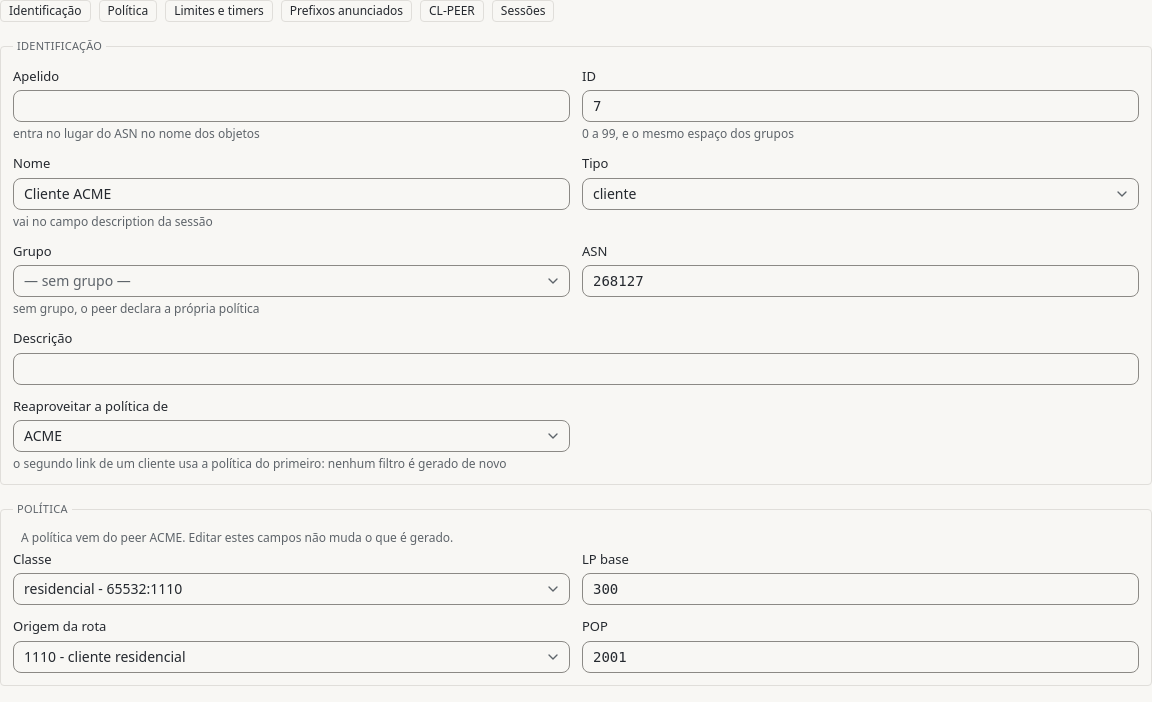
Scenario: o formulario do peer › trocar o tipo limpa a origem que nao vale no par novo
Click the dropdown named "Tipo".
click(615, 193)  # box top-left (582, 178), bottom-right (1139, 210)
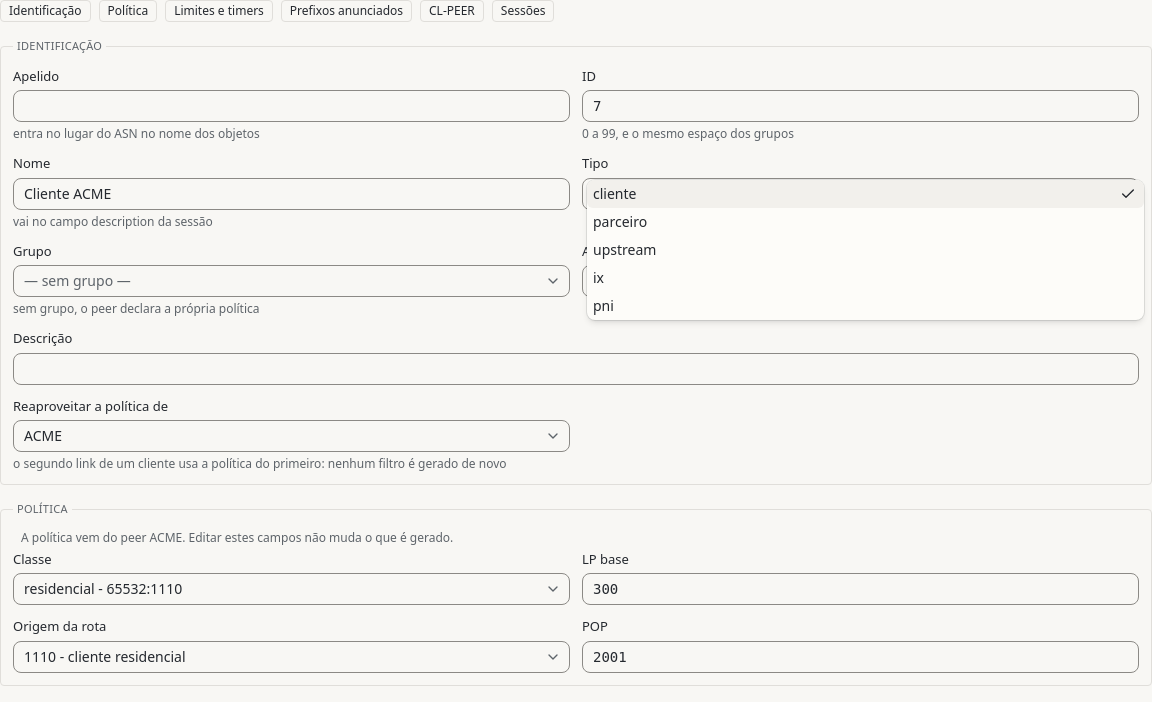
Click the option "upstream".
click(625, 249)  # box top-left (593, 240), bottom-right (656, 258)
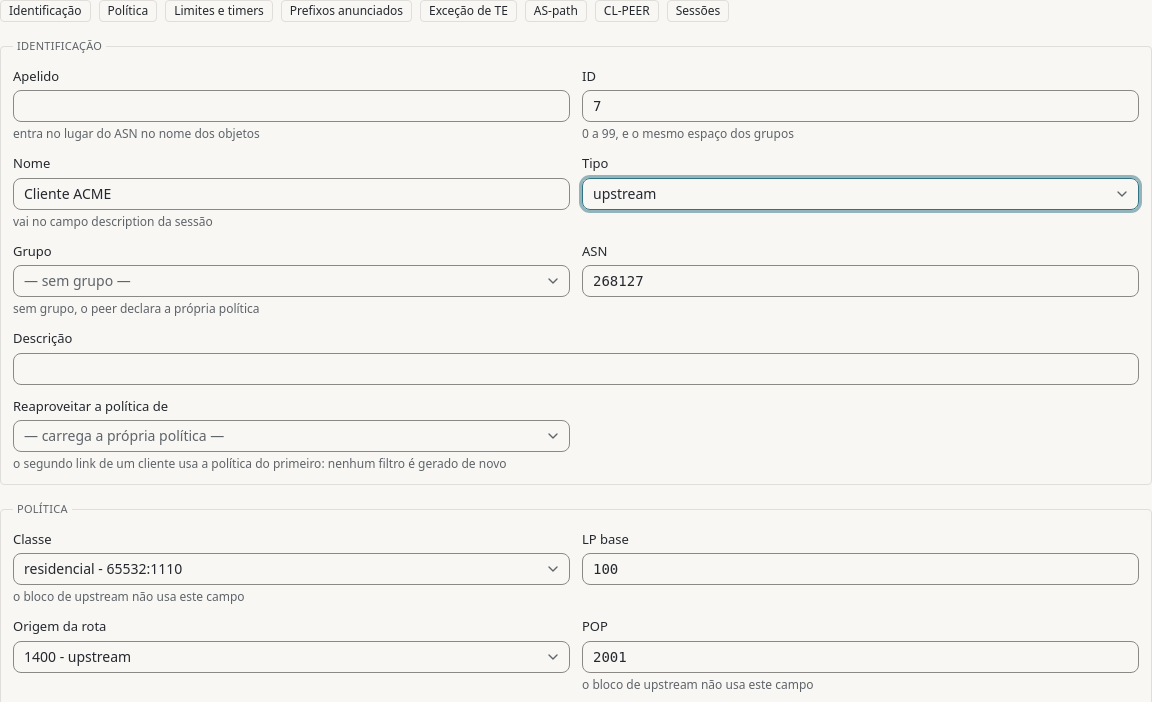
Expected: the dropdown named "reaproveitar" shows "— carrega a própria política —", top-left (13, 420), bottom-right (570, 452)
